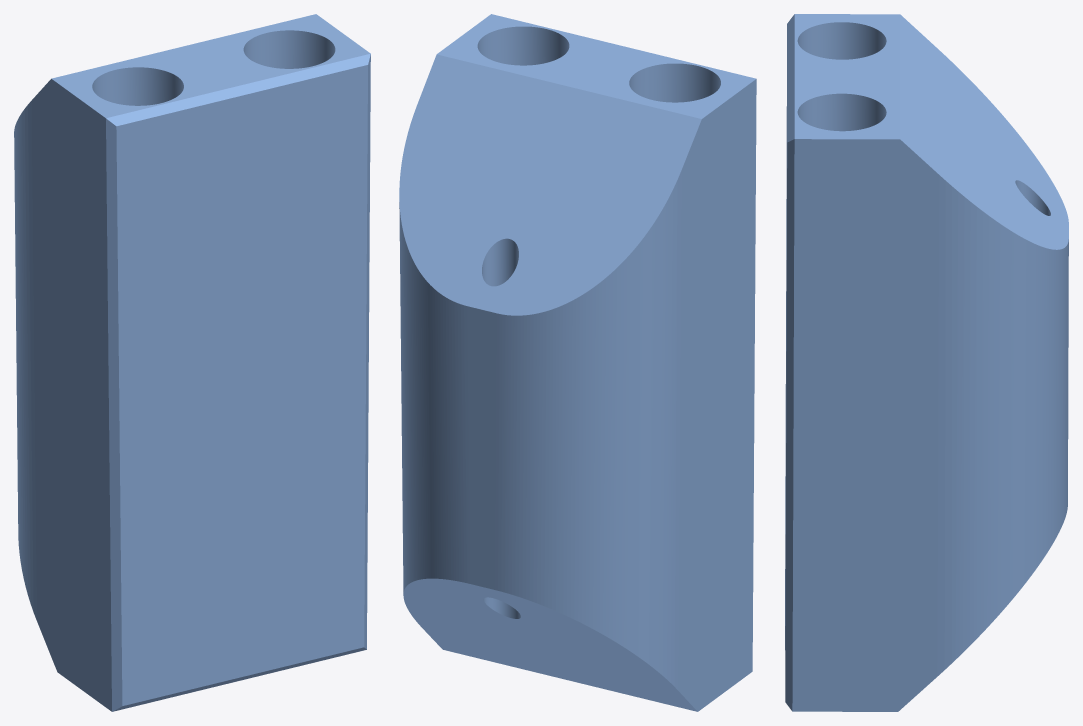
File: dedo_indice_1.dae
3 renders of one model, left to right at view 1: azimuth 30°, elevation 25°; view 2: azimuth 150°, elevation 25°; view 3: azimuth 270°, elevation 25°, orthographic. The views are drawn at different scales.
Parts seen in each view (by area): view 1: Fingerdesign-All-2.01; view 2: Fingerdesign-All-2.01; view 3: Fingerdesign-All-2.01.
Part boxes in pixels (left/top/right/bottom): Fingerdesign-All-2.01: left=14, top=14, right=370, bottom=711; Fingerdesign-All-2.01: left=399, top=14, right=756, bottom=711; Fingerdesign-All-2.01: left=785, top=14, right=1068, bottom=711.
Bounding box in the file's own units: 0.0129 × 0.0124 × 0.0277.
